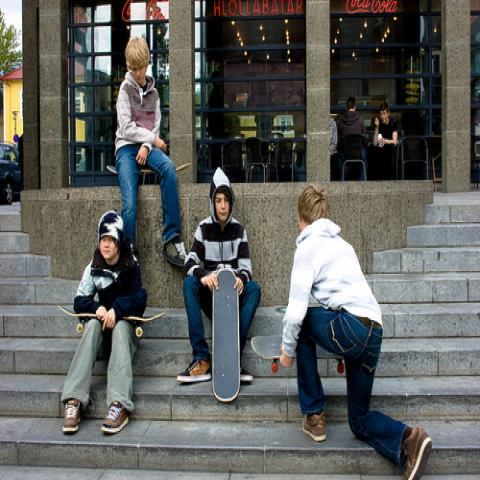car: (0, 143, 22, 204)
